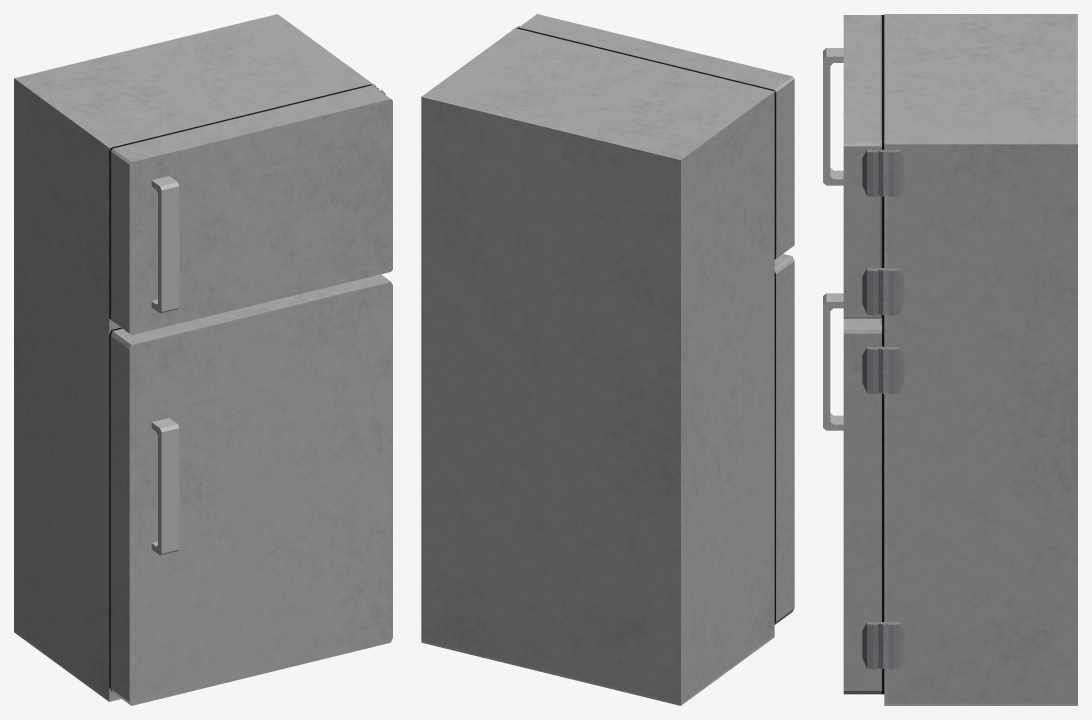
3 views of the same model, side by side, from view 1: azimuth 30°, elevation 25°; view 2: azimuth 150°, elevation 25°; view 3: azimuth 270°, elevation 25° (orthographic). The views are drawn at different scales.
Visible parts, largest first — view 1: bottom door, divider, hinge clamp door.001; view 2: divider, hinge clamp door.001, bottom door; view 3: divider, bottom door, hinge clamp door.001, hinge clamp, hinge clamp door, hinge, hinge.001.
Boxes of the visible parts, x1,y1,x2,y2 form: bottom door: (109,274,392,705); divider: (14,14,372,701); hinge clamp door.001: (109,84,392,335); divider: (421,28,774,705); hinge clamp door.001: (514,14,794,259); bottom door: (774,254,794,624); divider: (884,14,1077,705); bottom door: (823,293,884,694); hinge clamp door.001: (823,15,884,318); hinge clamp: (888,149,904,669); hinge clamp door: (862,346,878,669); hinge: (878,149,888,315); hinge.001: (878,346,888,668).
Size of the model in its own units: 1.01 by 1.99 by 0.8195.
Materials: 8 (8 with a texture image).
